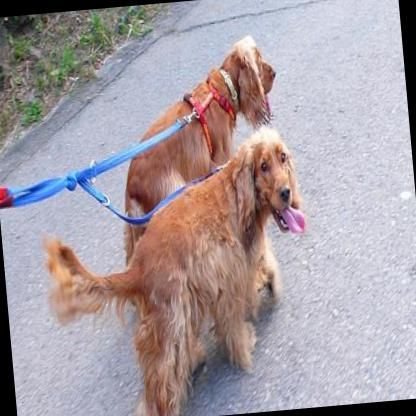cocker_spaniel: (32, 122, 321, 416), (106, 29, 294, 268)
